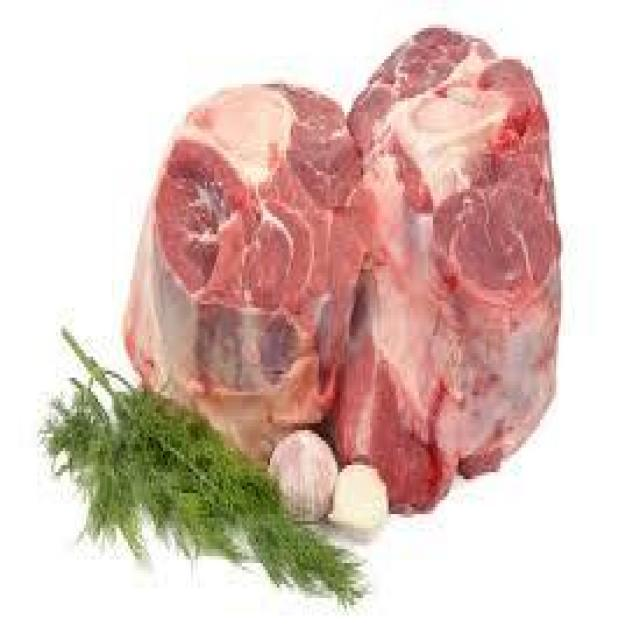beef: (122, 19, 366, 414)
